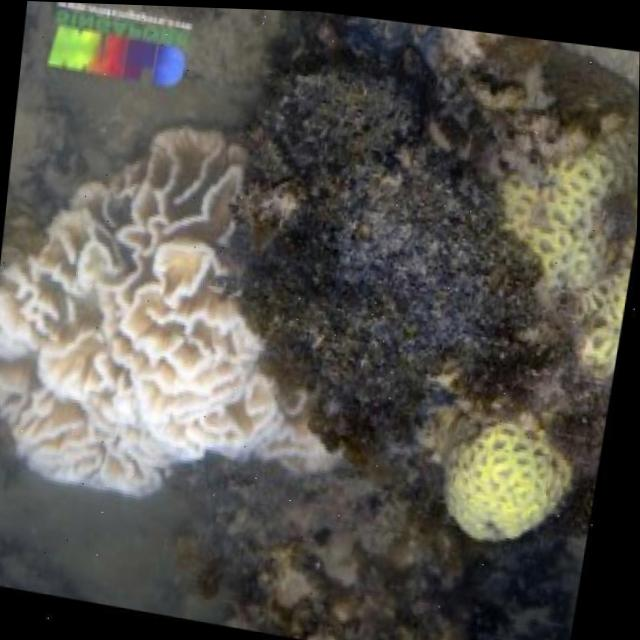Bleached Coral: (0, 105, 282, 577), (171, 373, 340, 547)
